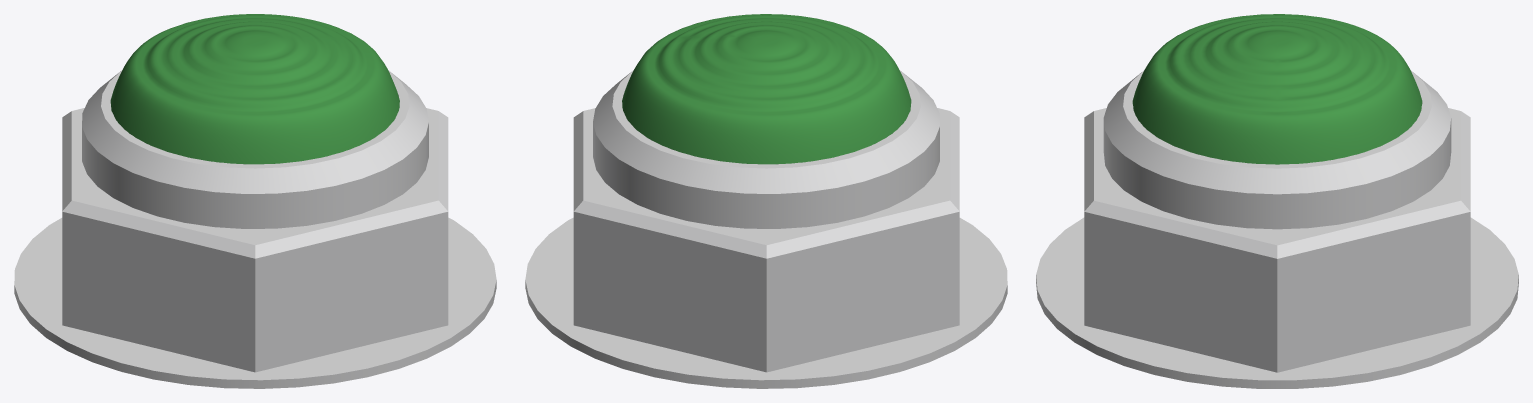
The model's file is button-4-s.obj.
The picture shows the model from 3 angles, left to right: view 1: azimuth 30°, elevation 25°; view 2: azimuth 150°, elevation 25°; view 3: azimuth 270°, elevation 25°; orthographic projection.
Visible parts, largest first — view 1: Body, Movable; view 2: Body, Movable; view 3: Body, Movable.
Part boxes in pixels (bbox=[...]): Body: bbox=[14, 70, 496, 388]; Movable: bbox=[110, 14, 399, 164]; Body: bbox=[525, 70, 1007, 388]; Movable: bbox=[622, 14, 911, 164]; Body: bbox=[1036, 70, 1518, 388]; Movable: bbox=[1132, 14, 1422, 164].
Bounding box in the file's own units: 4.99 × 2.82 × 5.
